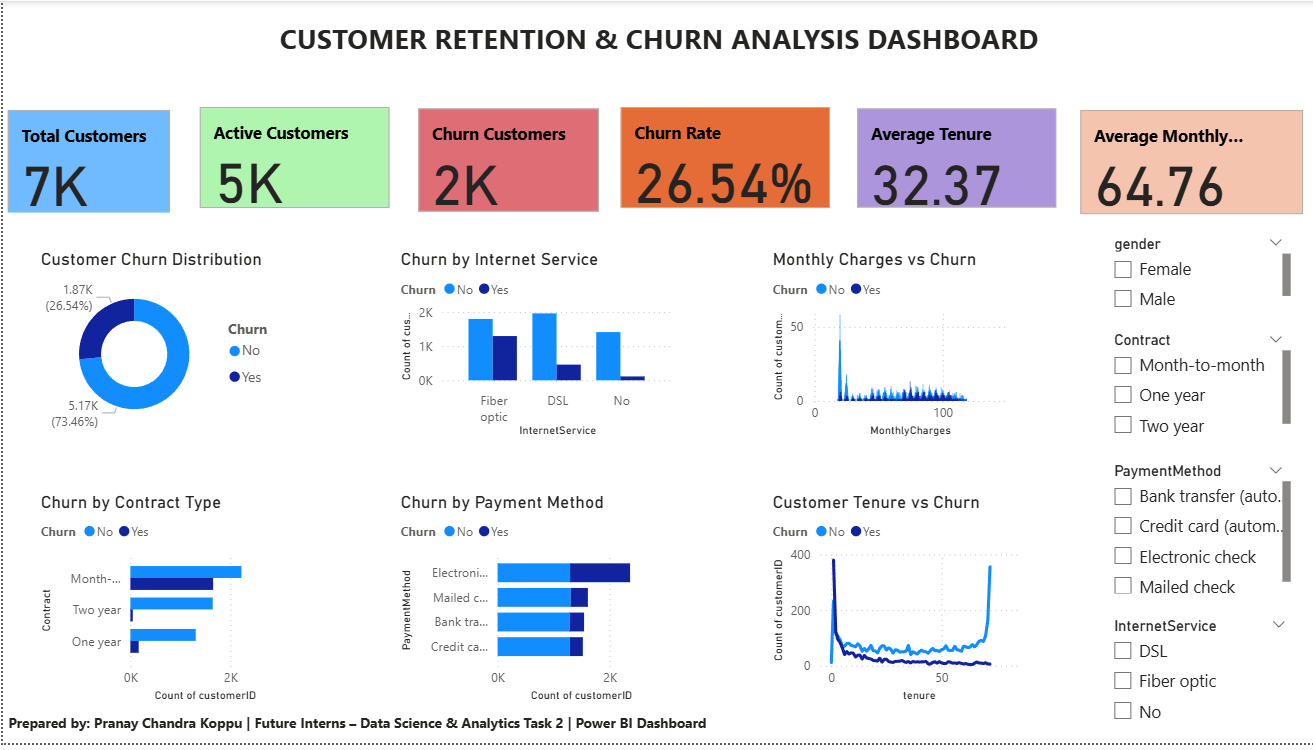

Layout of this report page (visuals, bound fields, positions):
{"tool":"powerbi","page":{"name":"Customer Retention Dashboard","canvas":[1280,720],"ordinal":0},"visuals":[{"type":"cardVisual","fields":{"Data":["Customer.Total Customers"]},"box":[0,100.4,167.3,109.7],"z":1000},{"type":"cardVisual","fields":{"Data":["Customer.Active Customers"]},"box":[185.5,98.1,194.7,108.9],"z":2000},{"type":"cardVisual","fields":{"Data":["Customer.Churn Customers"]},"box":[398.7,99.7,185.5,110.4],"z":3000},{"type":"cardVisual","fields":{"Data":["Customer.Churn Rate"]},"box":[594.4,98.1,213.5,108.2],"z":4000},{"type":"cardVisual","fields":{"Data":["Customer.Average Tenure"]},"box":[823.8,99.5,203.4,106.8],"z":5000},{"type":"cardVisual","fields":{"Data":["Customer.Average Monthly Charges"]},"box":[1040.2,101,226.5,111.1],"z":6000},{"type":"textbox","box":[0,12.9,1280,68.6],"z":7000},{"type":"donutChart","title":"Customer Churn Distribution","fields":{"Category":["Customer.Churn"],"Y":["CountNonNull(Customer.customerID)"]},"box":[31.7,240.9,249.6,184.7],"z":8000},{"type":"clusteredBarChart","title":"Churn by Contract Type","fields":{"Category":["Customer.Contract"],"Y":["CountNonNull(Customer.customerID)"],"Series":["Customer.Churn"]},"box":[31.7,476.1,249.6,207.7],"z":9000},{"type":"clusteredColumnChart","title":"Churn by Internet Service","fields":{"Category":["Customer.InternetService"],"Y":["CountNonNull(Customer.customerID)"],"Series":["Customer.Churn"]},"box":[380.9,240.9,274.1,186.1],"z":10000},{"type":"barChart","title":"Churn by Payment Method","fields":{"Category":["Customer.PaymentMethod"],"Y":["CountNonNull(Customer.customerID)"],"Series":["Customer.Churn"]},"box":[380.9,476.1,274.1,207.7],"z":11000},{"type":"lineChart","title":"Customer Tenure vs Churn","fields":{"Category":["Customer.tenure"],"Y":["CountNonNull(Customer.customerID)"],"Series":["Customer.Churn"]},"box":[741.5,476.1,248.1,207.7],"z":12000},{"type":"slicer","fields":{"Values":["Customer.gender"]},"box":[1064.7,222.2,189,80.8],"z":13000},{"type":"slicer","fields":{"Values":["Customer.Contract"]},"box":[1064.7,315.9,189,111.1],"z":14000},{"type":"slicer","fields":{"Values":["Customer.InternetService"]},"box":[1064.7,592.9,191.9,115.4],"z":15000},{"type":"slicer","fields":{"Values":["Customer.PaymentMethod"]},"box":[1064.7,442.9,189,137.1],"z":16000},{"type":"clusteredColumnChart","title":"Monthly Charges vs Churn","fields":{"Category":["Customer.MonthlyCharges"],"Y":["CountNonNull(Customer.customerID)"],"Series":["Customer.Churn"]},"box":[741.5,240.9,248.1,186.1],"z":17000},{"type":"textbox","box":[0,687.1,701.4,32.9],"z":18000}]}

Visuals, with their boxes in screenshot pixels (x1, y1, x2, y2), scaled from the page's 1280x720 canvas onto the 1313x750 screenshot:
cardVisual - Customer.Total Customers: bbox(0, 105, 172, 219)
cardVisual - Customer.Active Customers: bbox(190, 102, 390, 216)
cardVisual - Customer.Churn Customers: bbox(409, 104, 599, 219)
cardVisual - Customer.Churn Rate: bbox(610, 102, 829, 215)
cardVisual - Customer.Average Tenure: bbox(845, 104, 1054, 215)
cardVisual - Customer.Average Monthly Charges: bbox(1067, 105, 1299, 221)
textbox: bbox(0, 13, 1312, 85)
"Customer Churn Distribution" donutChart: bbox(33, 251, 289, 443)
"Churn by Contract Type" clusteredBarChart: bbox(33, 496, 289, 712)
"Churn by Internet Service" clusteredColumnChart: bbox(391, 251, 672, 445)
"Churn by Payment Method" barChart: bbox(391, 496, 672, 712)
"Customer Tenure vs Churn" lineChart: bbox(761, 496, 1015, 712)
slicer - Customer.gender: bbox(1092, 231, 1286, 316)
slicer - Customer.Contract: bbox(1092, 329, 1286, 445)
slicer - Customer.InternetService: bbox(1092, 618, 1289, 738)
slicer - Customer.PaymentMethod: bbox(1092, 461, 1286, 604)
"Monthly Charges vs Churn" clusteredColumnChart: bbox(761, 251, 1015, 445)
textbox: bbox(0, 716, 719, 749)
